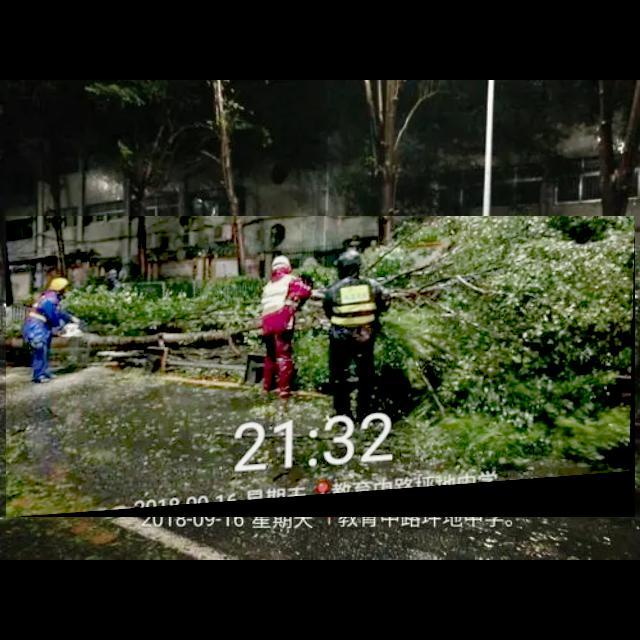fallen_tree: (6, 216, 636, 518)
